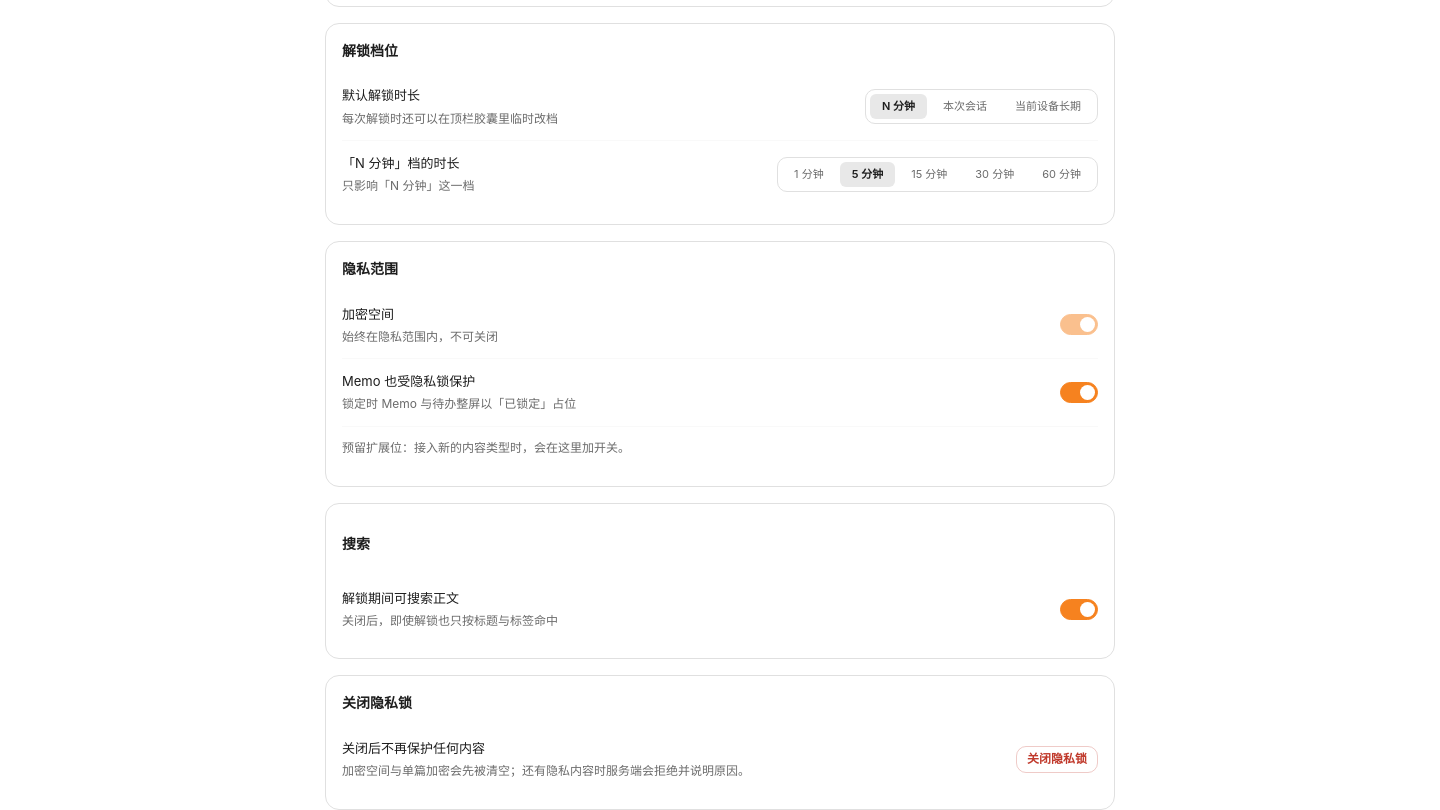
关闭隐私锁 › 已启用时显示状态与关闭按钮；被服务端拒绝时把原因显示出来
(page scrolled)
Click the button "关闭隐私锁".
click(1057, 759)  # box [1016, 746, 1098, 773]
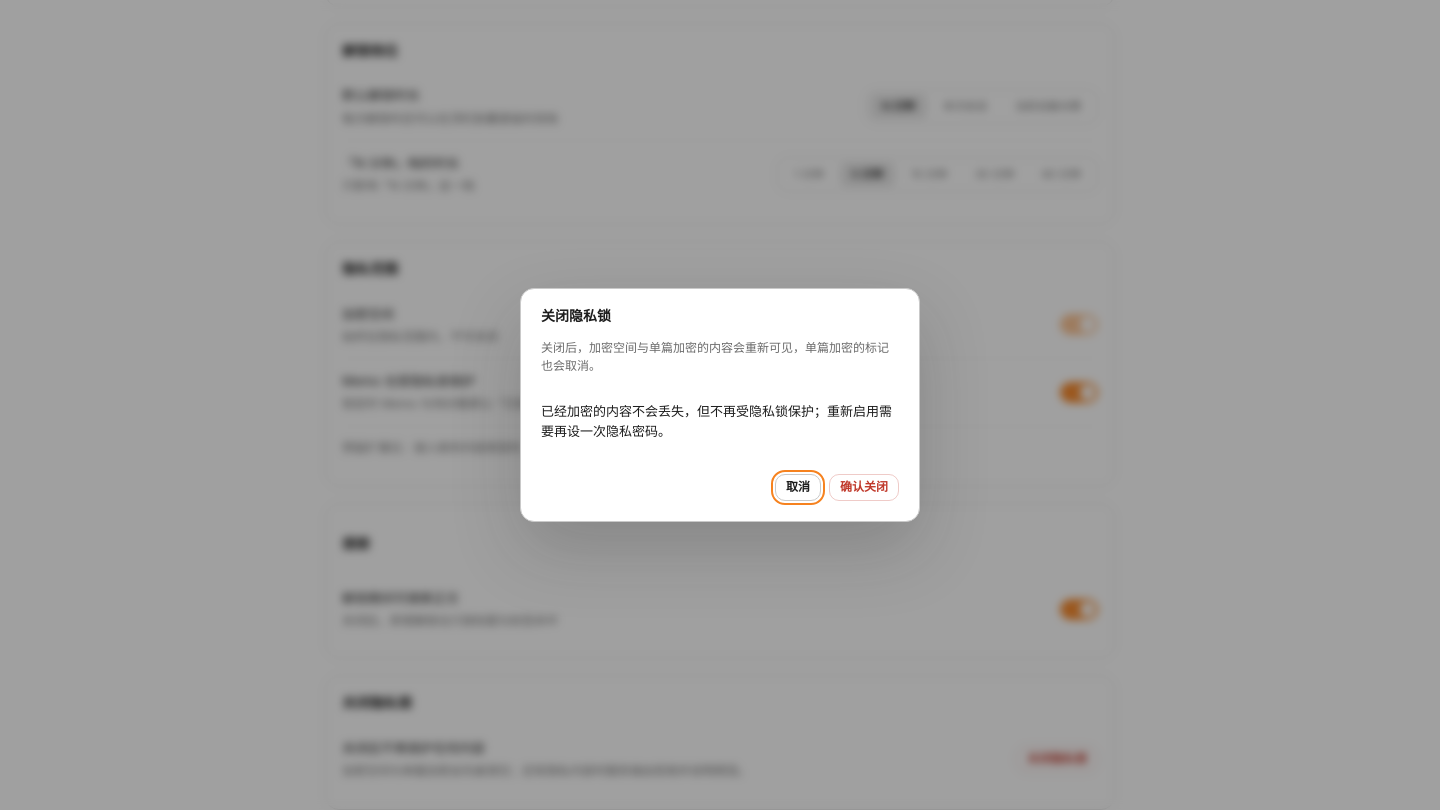
// 破坏性操作要二次确认（DESIGN.md §6.5）：入口之后还有一步
Click the button "确认关闭".
click(864, 488)  # box [829, 474, 899, 501]
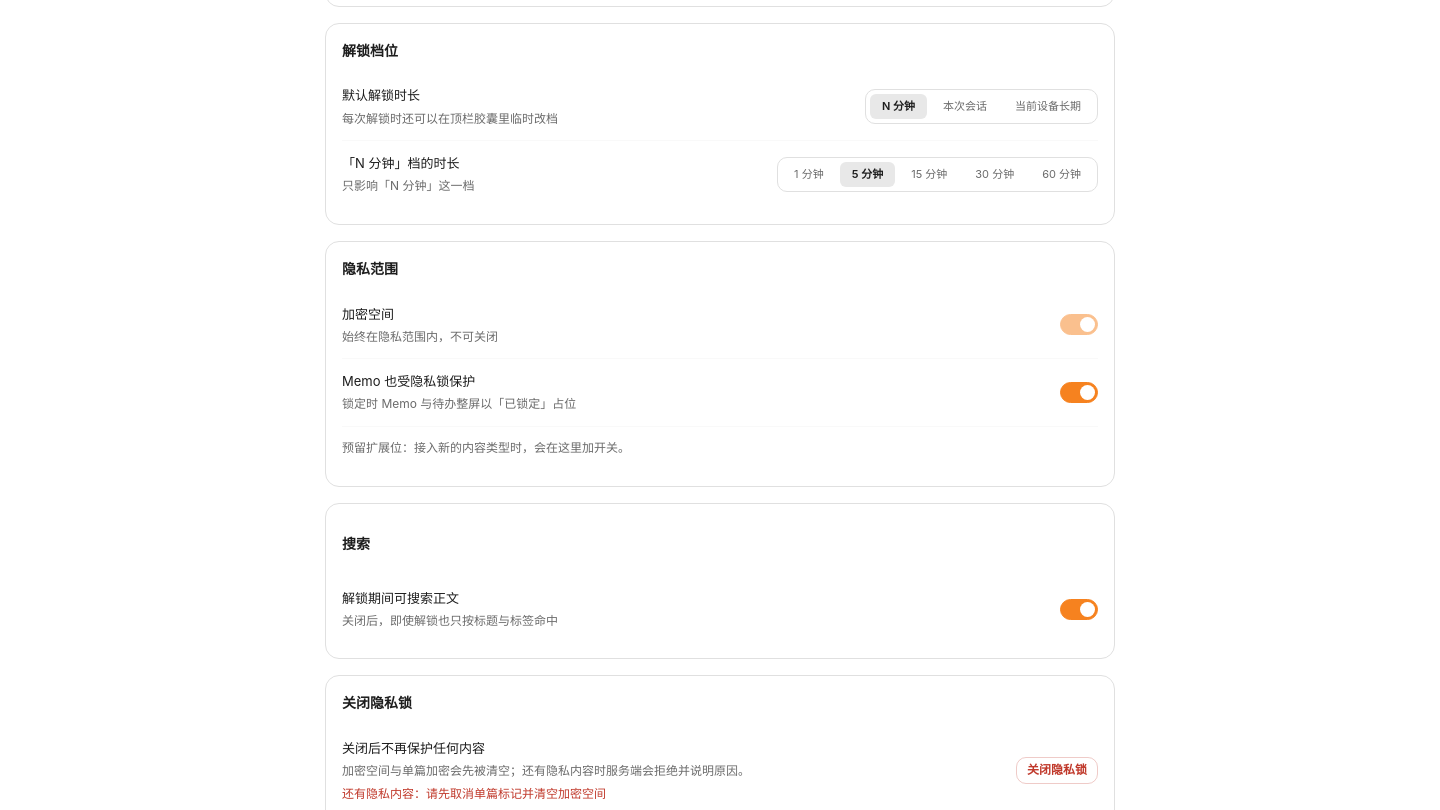
expect the message shows "还有隐私内容": met, box [342, 786, 606, 801]
